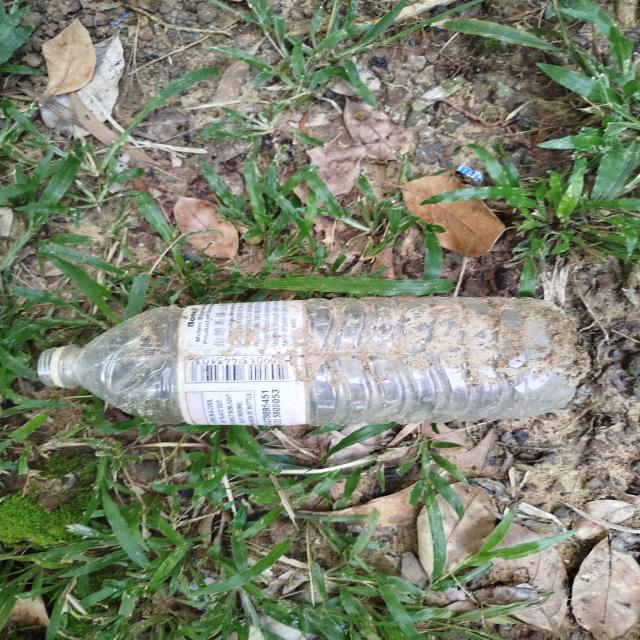plastic: (36, 285, 592, 436)
